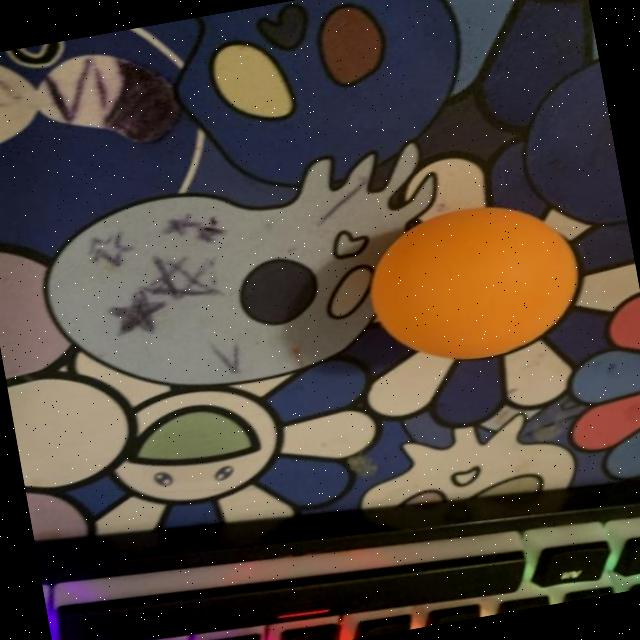ping-pong-ball: (340, 177, 606, 391)
